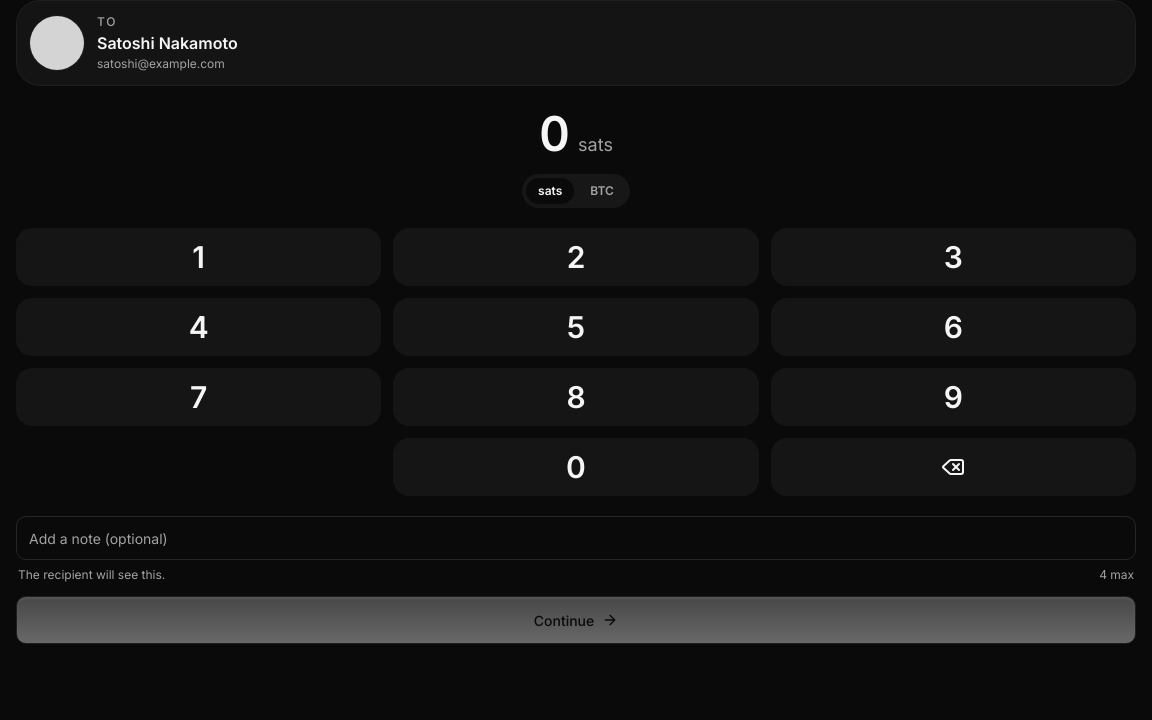
Test: SendAmountStep payer note › stops the note at the recipient comment budget
Expected: the text "4 max" is shown, left=1099, top=566, right=1134, bottom=584
Type "hello" into the field named "Note for recipient". click: (576, 538)
box: left=16, top=516, right=1136, bottom=560
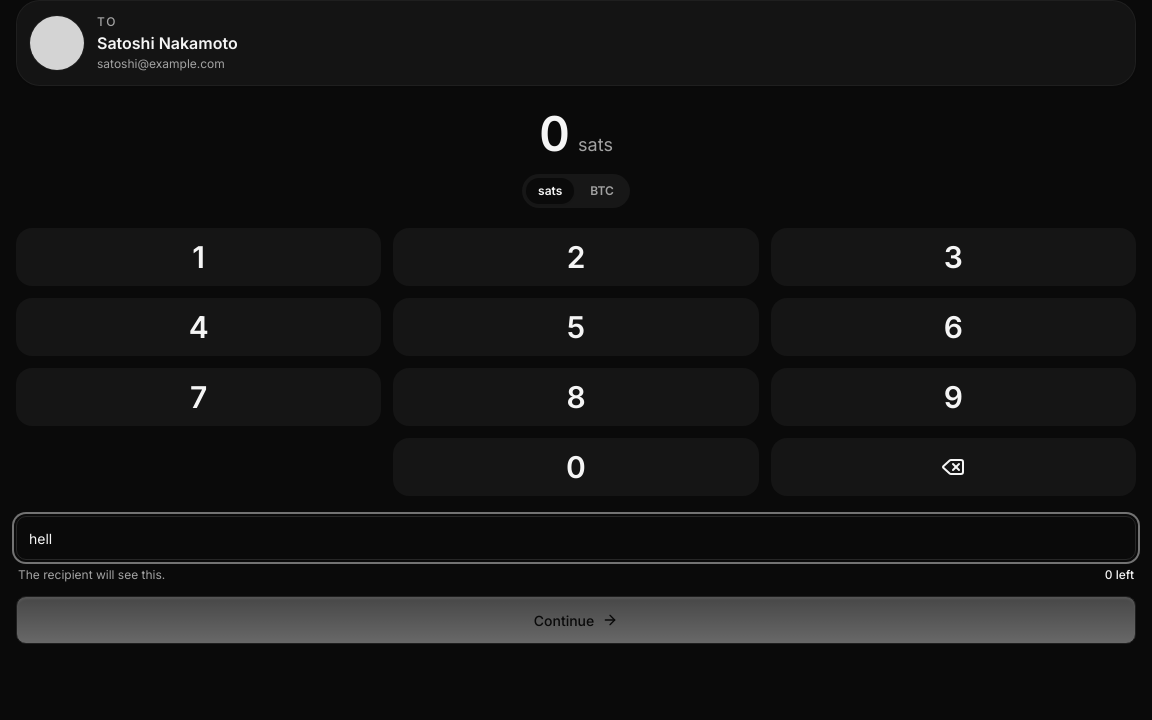
Now the field named "Note for recipient" holds "hell", box left=16, top=516, right=1136, bottom=560
Now the text "0 left" is shown, box left=1105, top=566, right=1134, bottom=584
